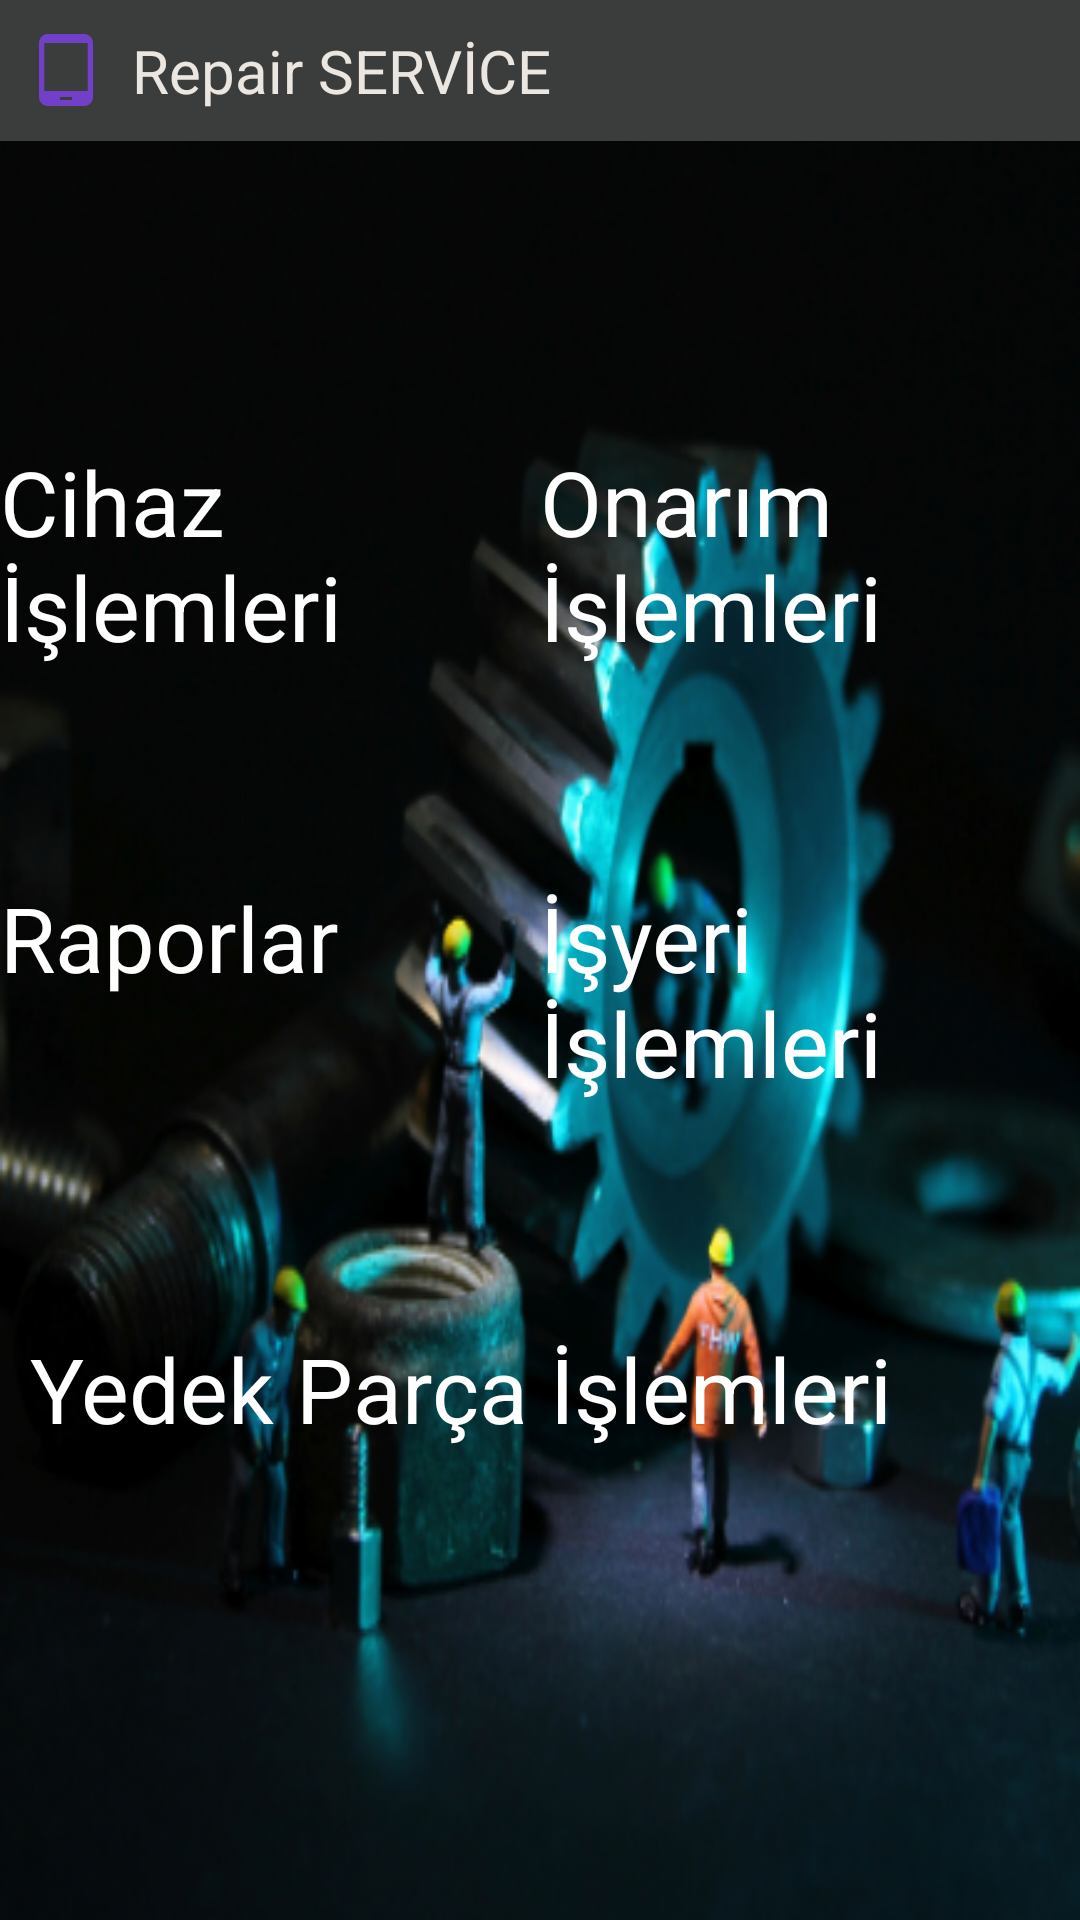

Icons on this 1080*1920 Android screen, each with its box as (x1, y1, x2, y2):
tablet android: (39, 34, 93, 106)
